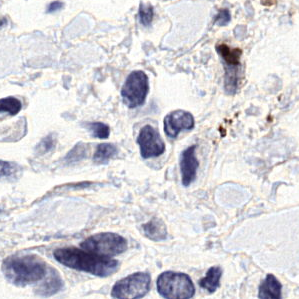Lymphocyte: (216, 41, 244, 66)
